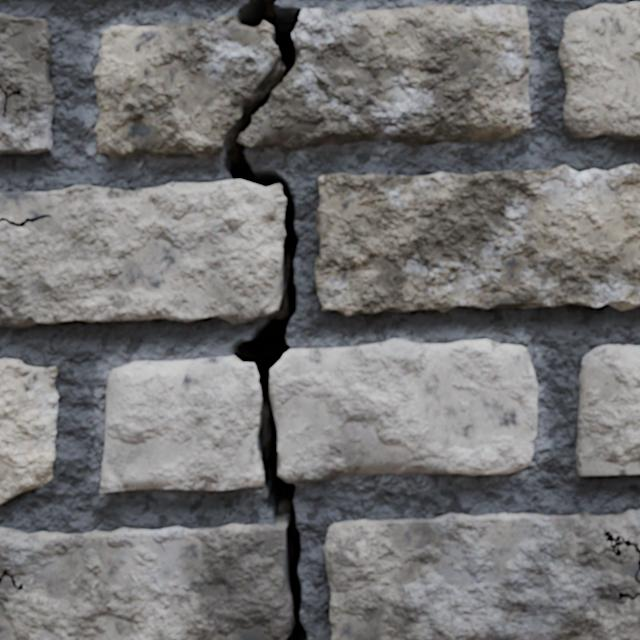broken_brick: (238, 4, 530, 149), (270, 338, 537, 482), (93, 15, 278, 158), (100, 356, 263, 492)
crack: (0, 0, 307, 639), (315, 164, 639, 315), (323, 510, 639, 639), (558, 2, 639, 140), (0, 358, 58, 504), (576, 345, 639, 476), (0, 13, 55, 154)
